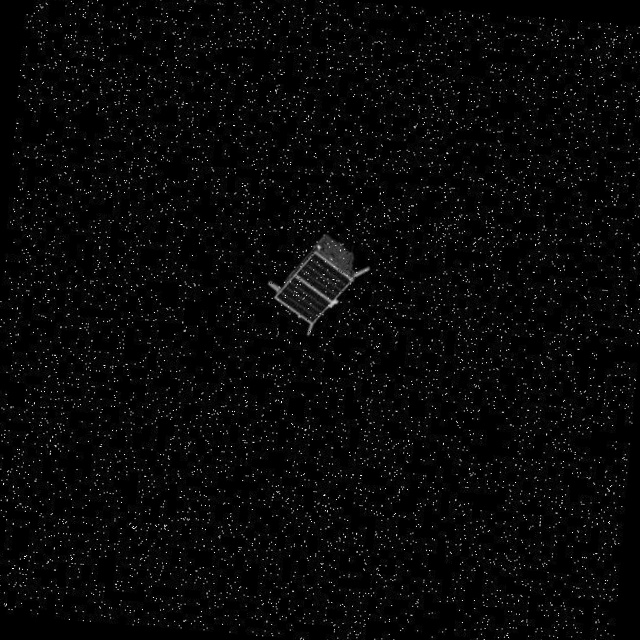satellite: (267, 232, 377, 344)
